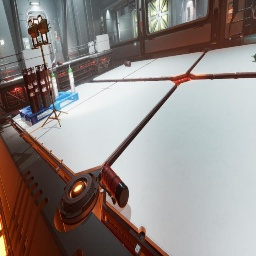0: (68, 62, 76, 93), (51, 68, 59, 97), (251, 53, 256, 61)
EmergencyPhone ,: (54, 30, 57, 37)
FireAlarm ,: (58, 37, 61, 42), (140, 21, 142, 27)
FireExtinguisher ]: (97, 161, 129, 208), (4, 75, 14, 82), (57, 61, 63, 66), (102, 168, 103, 169), (5, 81, 5, 81)
FirstAidBox ,: (54, 62, 57, 67)
NitrogenTank ,: (22, 68, 39, 114), (35, 64, 50, 109), (42, 63, 56, 104), (28, 67, 42, 108), (124, 61, 131, 67), (49, 63, 55, 69)
SafetySwitchPanel ,: (226, 0, 234, 23), (22, 37, 31, 50)
